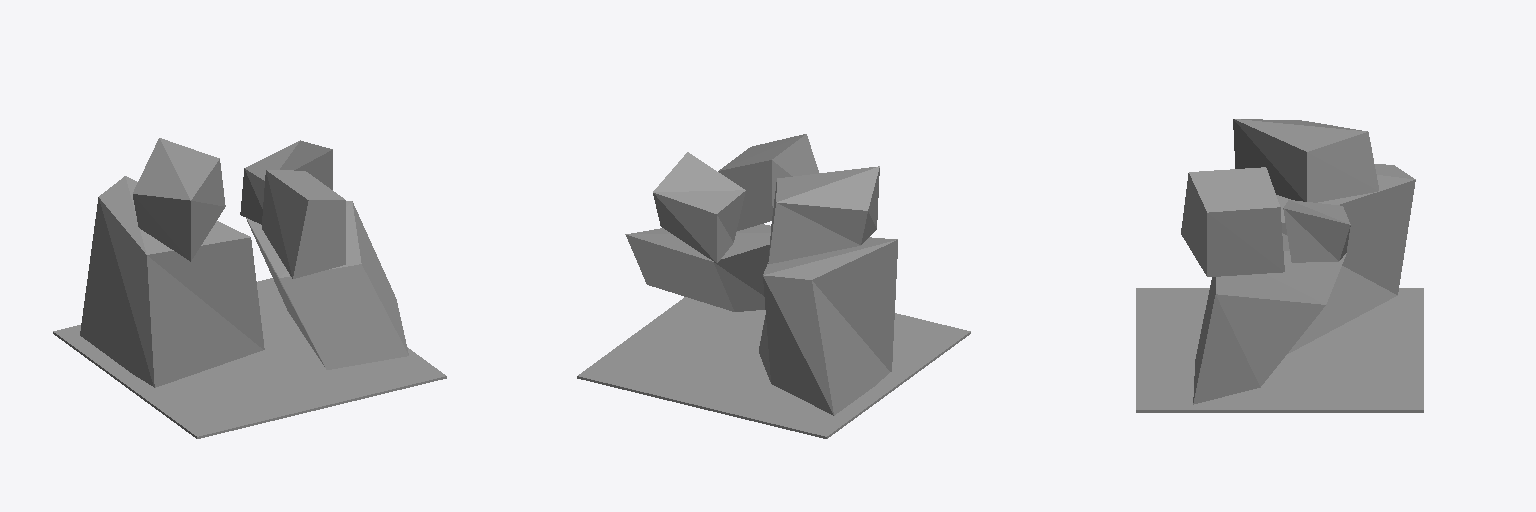
The model's file is pather_NO_5_TEX_1.obj.
3 renders of one model, left to right at view 1: azimuth 30°, elevation 25°; view 2: azimuth 150°, elevation 25°; view 3: azimuth 270°, elevation 25°, orthographic.
Visible parts, largest first — view 1: Cube.004_Cube, Cube.005, Cube.001, Cube.003, Cube_Cube.004, Cube.002; view 2: Cube.005, Cube.004_Cube, Cube.003, Cube.001, Cube.002, Cube_Cube.004; view 3: Cube.005, Cube.001, Cube_Cube.004, Cube.004_Cube, Cube.003, Cube.002.
Part boxes in pixels (x1,y1,x2,y2): Cube.004_Cube: (80,176,264,387); Cube.005: (53,278,446,438); Cube.001: (246,201,408,369); Cube.003: (133,138,225,261); Cube_Cube.004: (262,170,345,278); Cube.002: (240,140,332,224); Cube.005: (577,297,970,438); Cube.004_Cube: (759,237,897,415); Cube.003: (768,166,879,263); Cube.001: (625,224,770,311); Cube.002: (653,152,745,262); Cube_Cube.004: (718,134,818,230); Cube.005: (1136,288,1423,412); Cube.001: (1193,251,1346,404); Cube_Cube.004: (1181,167,1284,276); Cube.004_Cube: (1276,164,1415,353); Cube.003: (1233,119,1378,202); Cube.002: (1283,200,1350,262).
Size of the model in its own units: 0.6475 by 0.467 by 0.6178.